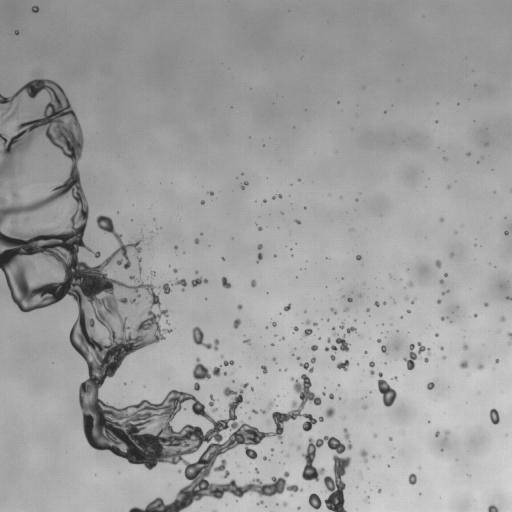droplet: (302, 428, 352, 511), (192, 358, 221, 390), (404, 342, 430, 370), (489, 409, 499, 424), (175, 278, 186, 291), (336, 360, 349, 370), (221, 277, 230, 288), (161, 283, 170, 294), (326, 407, 335, 417), (408, 473, 416, 484), (302, 329, 312, 337), (360, 450, 367, 461), (346, 326, 356, 333), (459, 360, 467, 368), (233, 319, 240, 328), (488, 505, 498, 511), (427, 382, 434, 389), (129, 275, 137, 281), (381, 345, 387, 353), (261, 365, 267, 373), (93, 251, 100, 257), (435, 260, 441, 267), (284, 304, 290, 311), (257, 253, 262, 261), (32, 6, 38, 12), (330, 308, 336, 314), (251, 280, 256, 287), (311, 345, 318, 350), (293, 326, 298, 332), (244, 339, 250, 344), (310, 357, 315, 363), (369, 361, 374, 367), (252, 409, 258, 414), (257, 244, 262, 249), (356, 255, 361, 260), (237, 304, 242, 309), (305, 320, 310, 325), (330, 355, 335, 360), (478, 364, 483, 369), (463, 343, 467, 349), (370, 369, 374, 375), (329, 393, 333, 399), (257, 500, 263, 504), (295, 219, 300, 223), (374, 302, 379, 306), (271, 322, 276, 326), (424, 357, 428, 362), (435, 431, 439, 436), (194, 239, 198, 243), (408, 282, 412, 286), (437, 299, 441, 303), (500, 317, 504, 321), (340, 324, 344, 328), (495, 359, 499, 363), (393, 376, 397, 380), (212, 408, 216, 412), (283, 502, 287, 506), (208, 191, 213, 194), (506, 297, 511, 300), (15, 30, 18, 34), (201, 200, 204, 204), (504, 231, 508, 234), (173, 269, 177, 272), (151, 271, 154, 275), (348, 298, 352, 301), (344, 308, 348, 311), (407, 309, 410, 313), (441, 317, 445, 320), (327, 338, 330, 342), (377, 338, 380, 342), (388, 437, 392, 440), (255, 468, 258, 472), (378, 489, 381, 493), (278, 194, 281, 197), (440, 218, 443, 221), (258, 227, 261, 230), (30, 263, 33, 266), (440, 280, 443, 283), (411, 300, 414, 303), (484, 303, 487, 306), (332, 327, 335, 330), (435, 333, 438, 336), (297, 446, 300, 449), (178, 469, 181, 472), (446, 431, 448, 435), (467, 152, 469, 155), (174, 246, 177, 248), (195, 271, 198, 273), (444, 274, 447, 276), (383, 302, 386, 304), (474, 314, 477, 316), (314, 322, 316, 325), (440, 347, 443, 349), (297, 356, 299, 359), (443, 356, 445, 359), (272, 358, 275, 360), (267, 420, 269, 423), (271, 448, 273, 451), (263, 457, 266, 459), (366, 499, 368, 502), (19, 162, 21, 164), (222, 258, 224, 260), (359, 294, 361, 296), (406, 297, 408, 299), (367, 309, 369, 311), (281, 337, 283, 339), (271, 343, 273, 345), (365, 351, 367, 353), (364, 406, 366, 408), (374, 434, 376, 436), (298, 507, 300, 509)
ligament: (0, 88, 323, 511), (377, 372, 396, 406), (192, 327, 219, 350), (335, 333, 349, 351), (4, 104, 18, 121), (260, 401, 273, 413), (299, 362, 313, 373), (191, 277, 207, 286), (325, 345, 336, 351), (209, 395, 214, 407), (241, 181, 248, 189), (223, 360, 234, 365), (508, 332, 511, 344), (441, 290, 448, 294)
